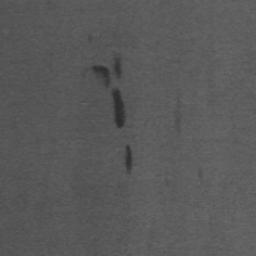Iron scale compression: (92, 52, 122, 84), (112, 90, 126, 129), (126, 145, 133, 175)
